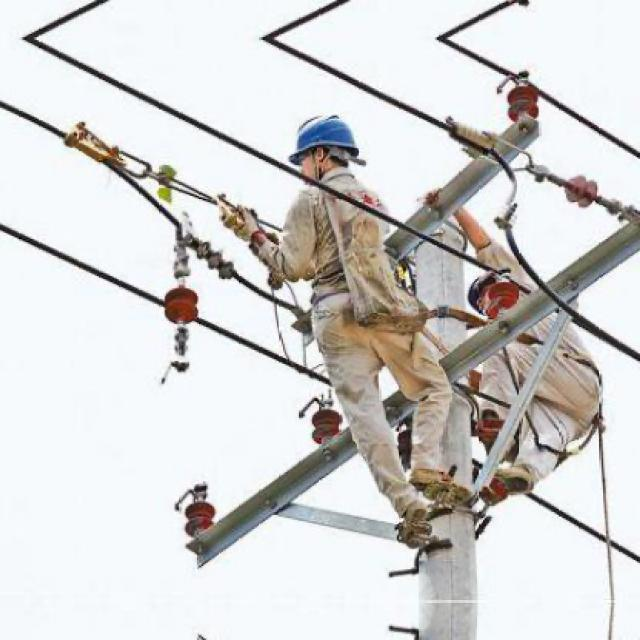helmet: (286, 105, 371, 193)
